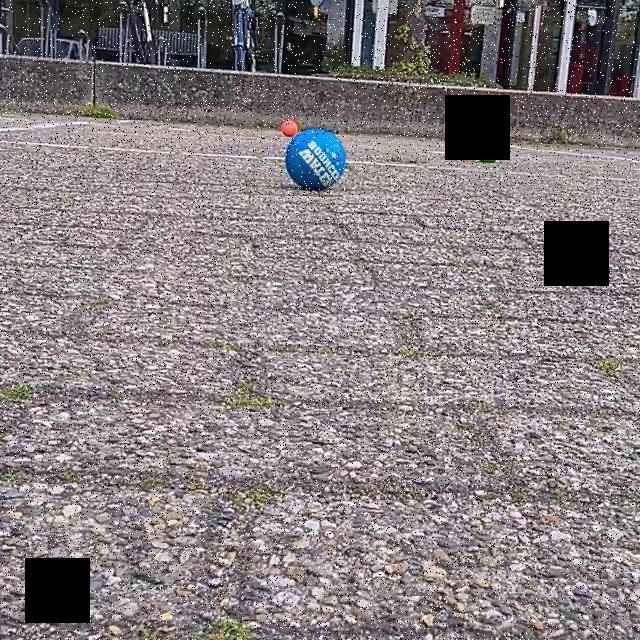ball: (472, 129, 503, 167), (275, 115, 299, 140)
